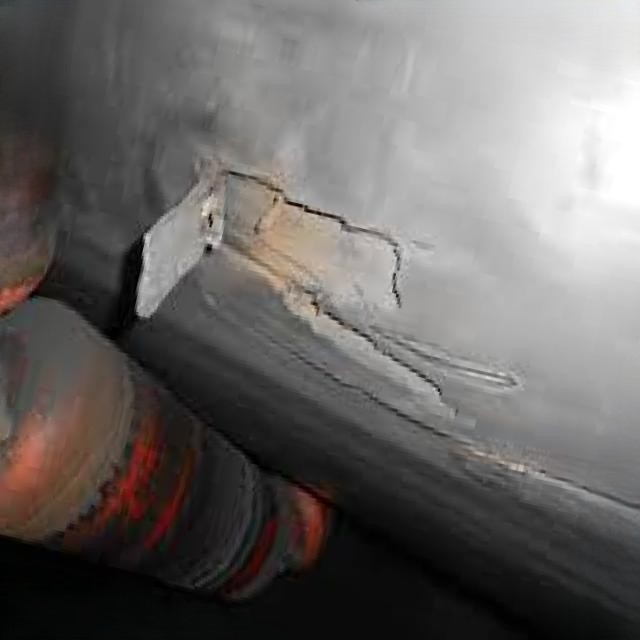Tear: (126, 156, 525, 427)
